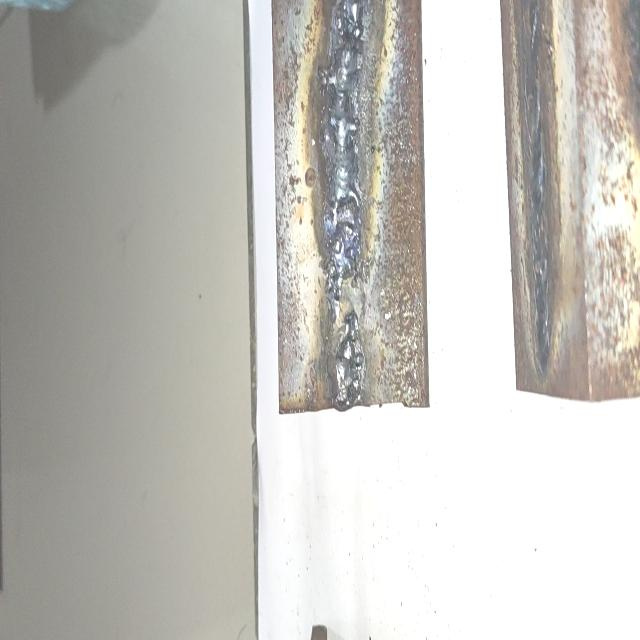Bad Weld: (331, 9, 357, 253)
Defect: (324, 0, 364, 394)
